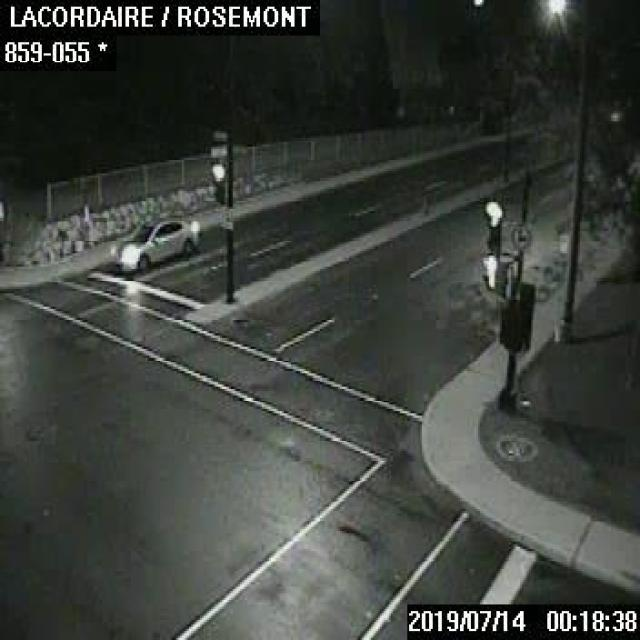vehicle: (111, 216, 196, 270)
